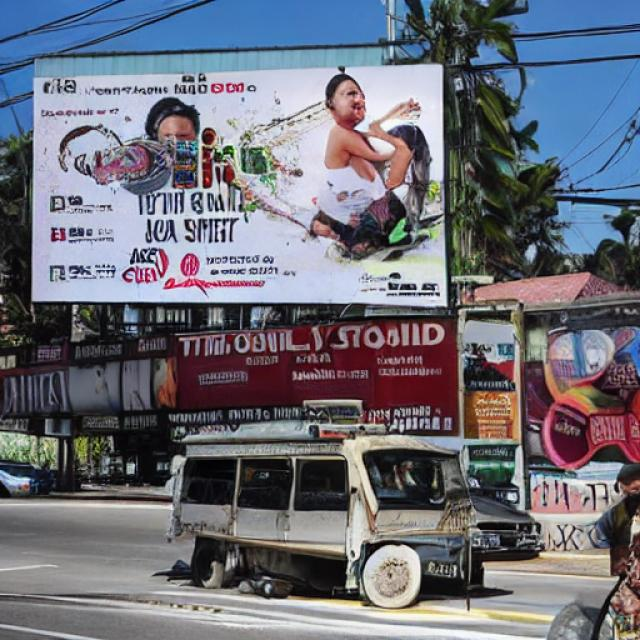Billboard: (27, 64, 454, 311)
